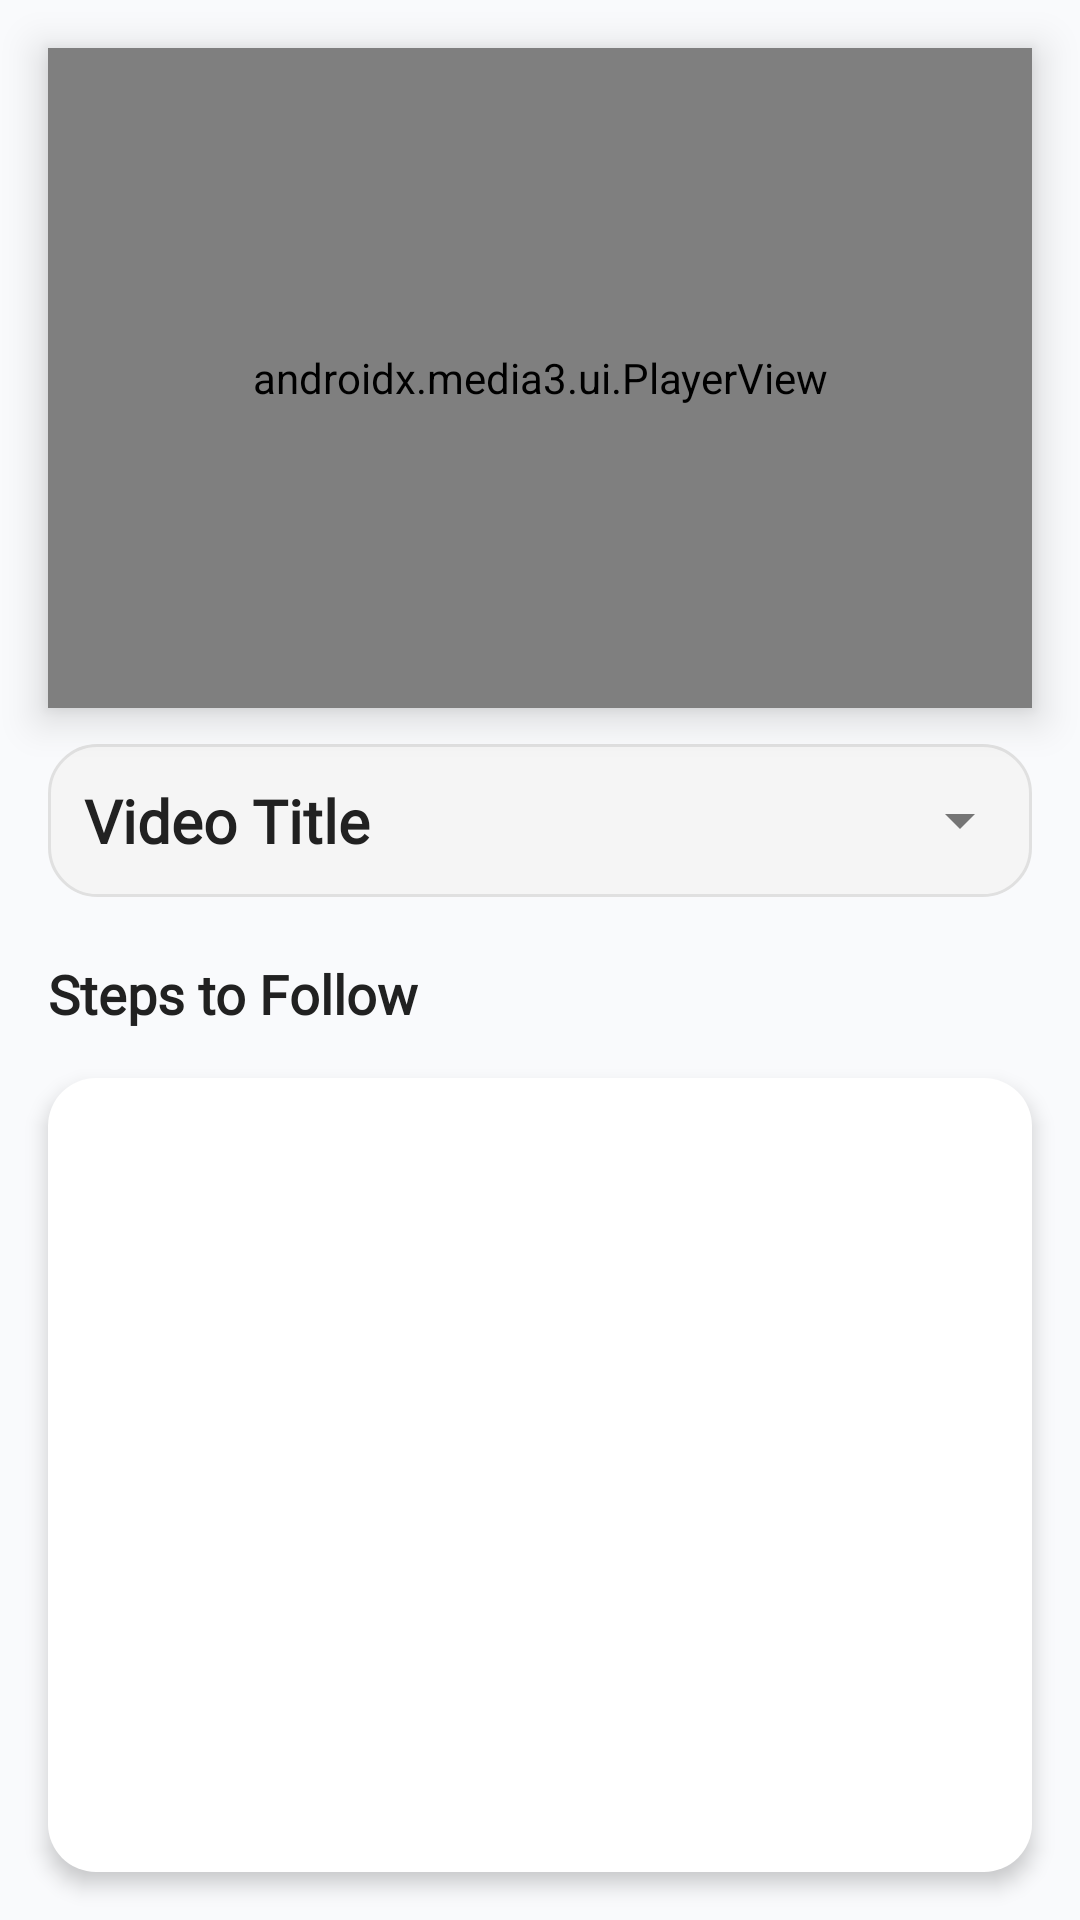

Where icons sit on this 1080px×1920px app screen, as (x1, y1, x2, y2):
Toggle description visibility: (945, 814, 975, 829)
